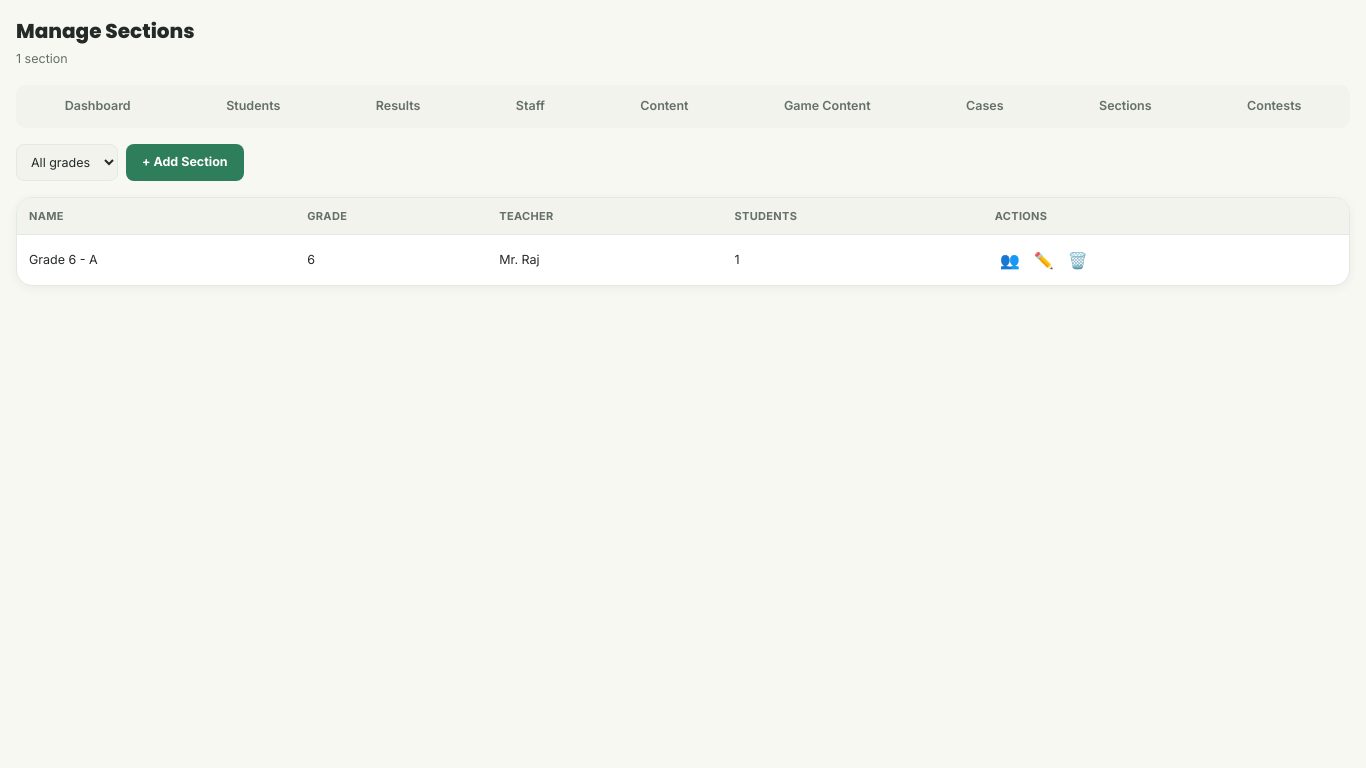
Test: AdminSections › roster: opens with the current student listed and an unassigned same-grade candidate offered
expect the text "Grade 6 - A" is shown: met, box [17,234,295,285]
Click the button named "Manage roster": (1010, 260) [995,245,1025,275]
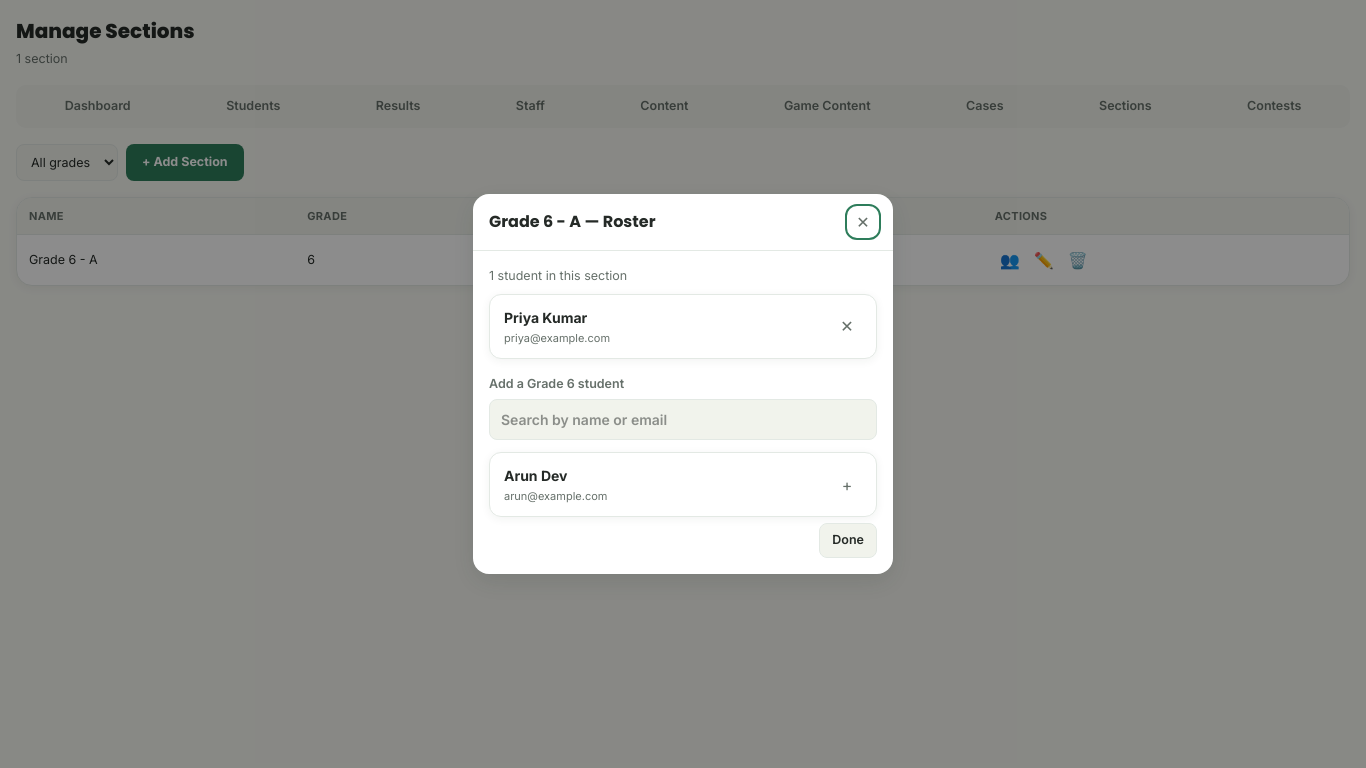
expect the text "Grade 6 - A — Roster" is shown: met, box [489,210,656,234]
expect the text "Priya Kumar" is shown: met, box [504,309,587,326]
expect the text "Arun Dev" is shown: met, box [504,467,568,484]
